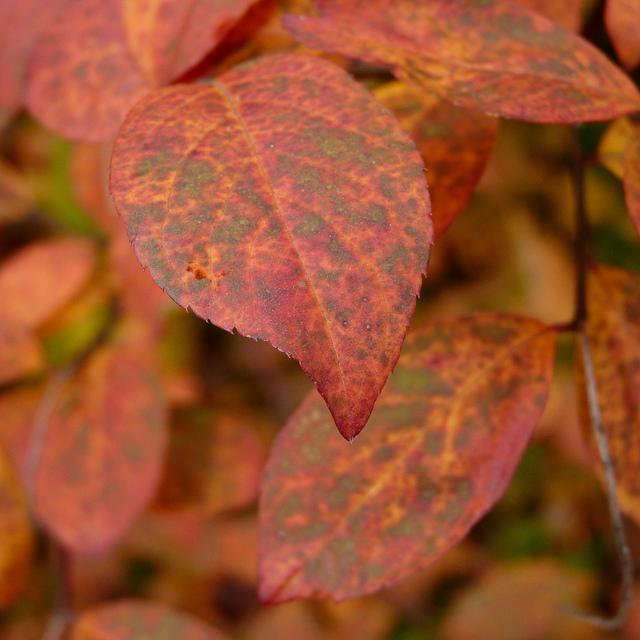Blueberry leaf: (108, 46, 418, 464), (251, 311, 570, 611), (289, 3, 638, 131)
